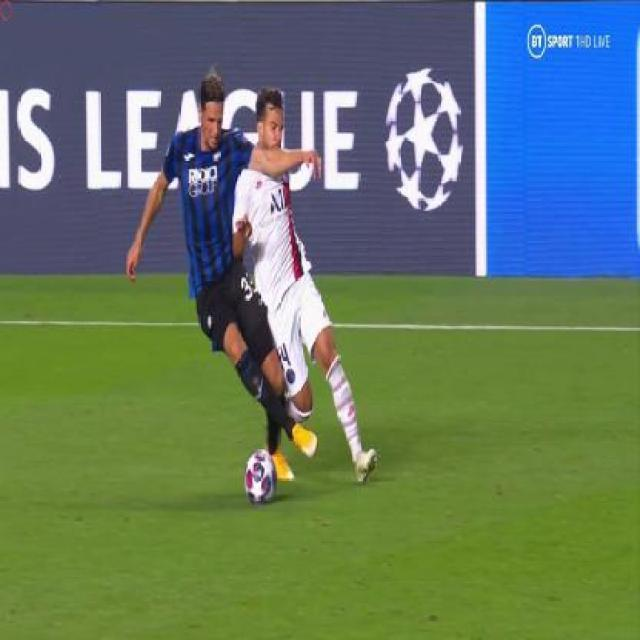ball: (240, 441, 280, 512)
player: (166, 63, 379, 509), (130, 55, 307, 460)
